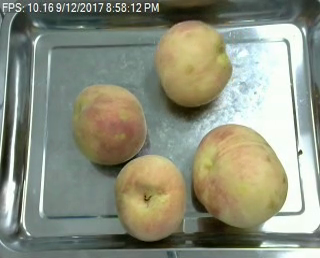Peach: (192, 122, 288, 231), (155, 18, 232, 107), (114, 155, 187, 243), (73, 83, 148, 166)
